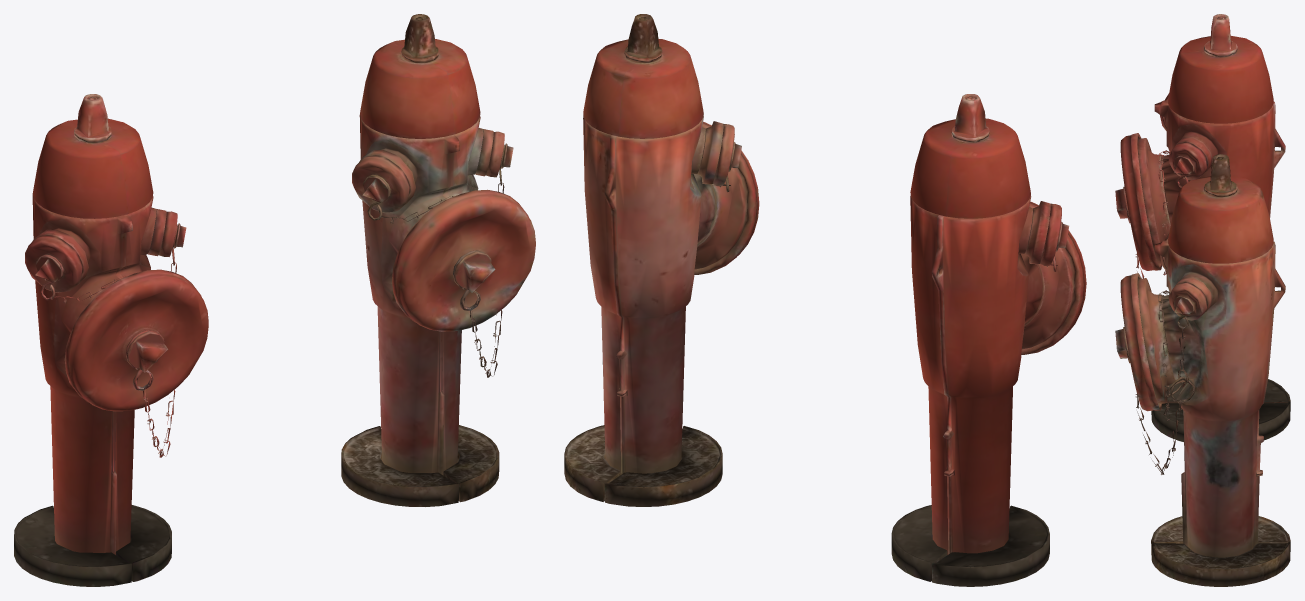
File: fire_hydrant.glb
3 views of the same model, side by side, from view 1: azimuth 30°, elevation 25°; view 2: azimuth 150°, elevation 25°; view 3: azimuth 270°, elevation 25° (orthographic). The views are drawn at different scales.
Visible parts, largest first — view 1: fire_hydrant_aged, fire_hydrant; view 2: fire_hydrant_aged, fire_hydrant; view 3: fire_hydrant_aged, fire_hydrant.
Boxes of the visible parts, <box> form: fire_hydrant_aged: <box>341,14,535,506</box>; fire_hydrant: <box>14,94,208,586</box>; fire_hydrant_aged: <box>564,14,759,506</box>; fire_hydrant: <box>891,94,1086,586</box>; fire_hydrant_aged: <box>1115,154,1290,586</box>; fire_hydrant: <box>1115,14,1290,441</box>.
Bounding box in the file's own units: 0.8745 × 0.7994 × 0.3173.
2 materials, 2 textured.
